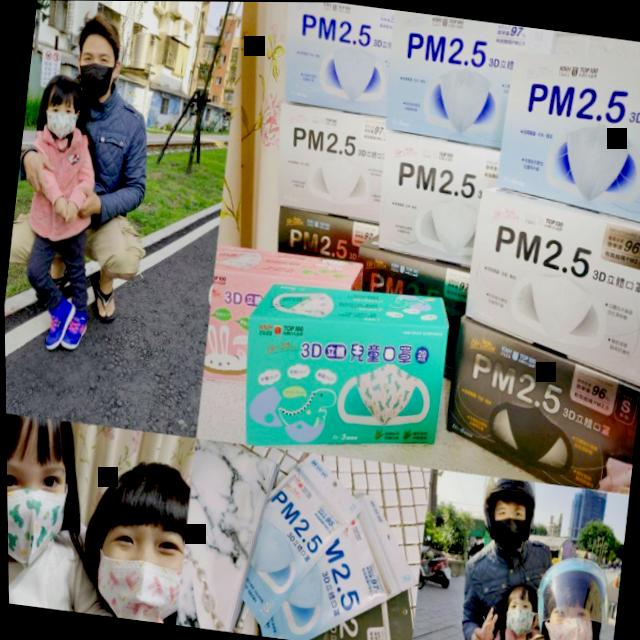Mask: (78, 445, 207, 626), (4, 386, 83, 574), (534, 545, 609, 640), (470, 466, 538, 552), (68, 11, 126, 107), (33, 69, 87, 142), (494, 573, 540, 640)
